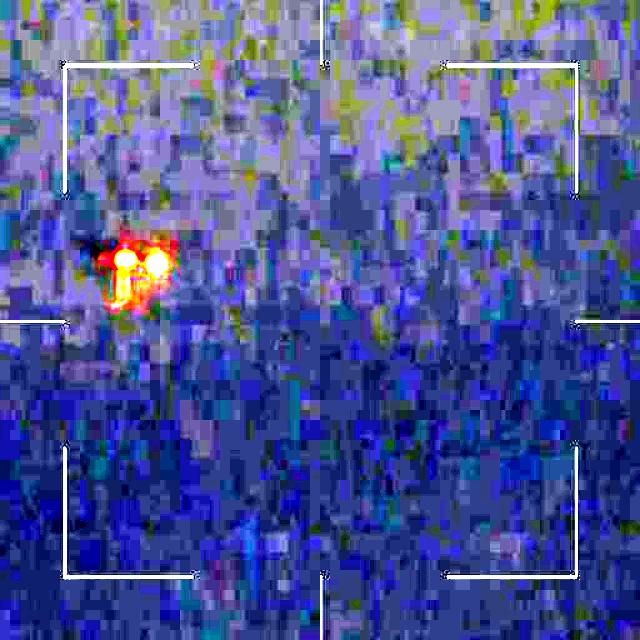bird: (91, 236, 175, 316)
